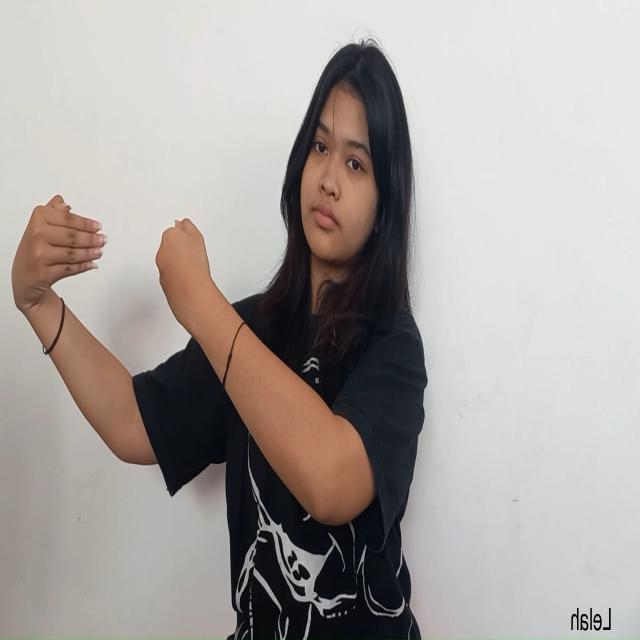Lelah -BISINDO-: (10, 190, 213, 344)
